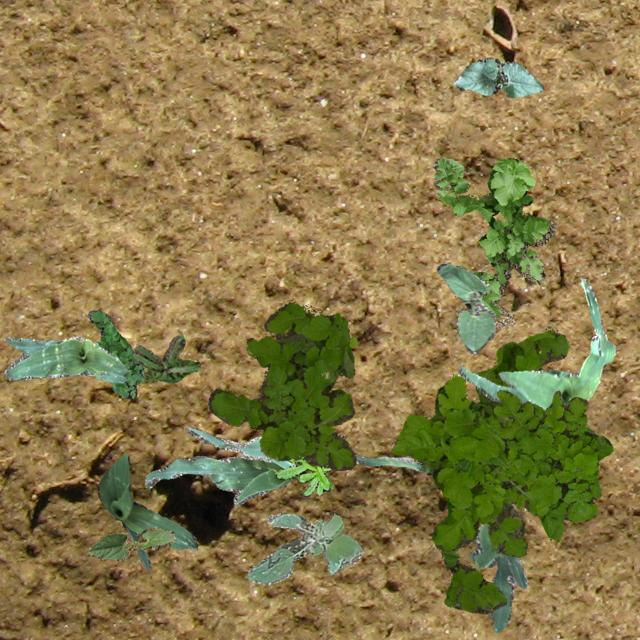crop: (353, 454, 528, 630), (456, 276, 614, 409), (144, 426, 298, 504), (98, 452, 196, 570), (2, 336, 128, 382), (436, 262, 496, 352), (452, 56, 542, 96), (86, 526, 175, 560)
weed: (390, 328, 568, 612), (206, 302, 354, 469), (432, 156, 554, 326), (492, 388, 612, 538), (246, 512, 362, 584), (86, 310, 142, 398), (130, 334, 200, 382), (274, 454, 332, 496), (348, 336, 358, 346)
